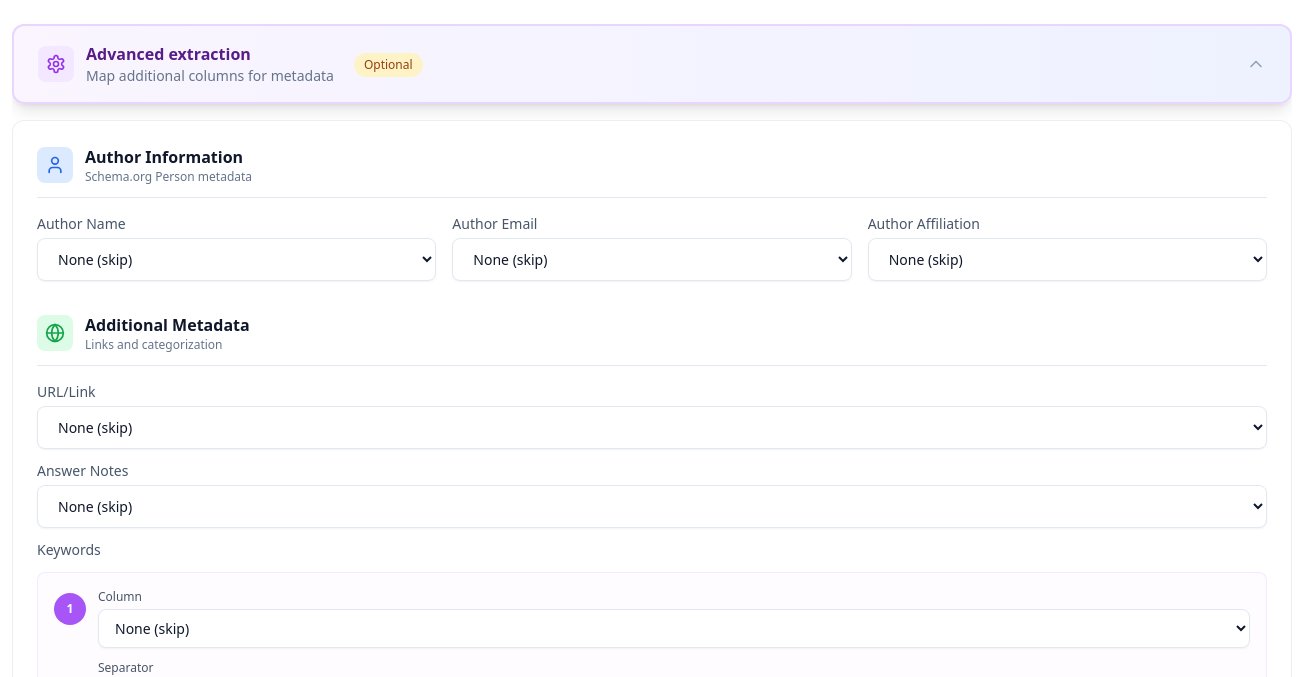
Test case: AdvancedExtractionPanel › shows truncated URLs in preview
Note: Select URL column
Select "URL" in the dropdown labelled "URL/Link". click: coordinates (652, 428)
box: [37,406,1267,449]
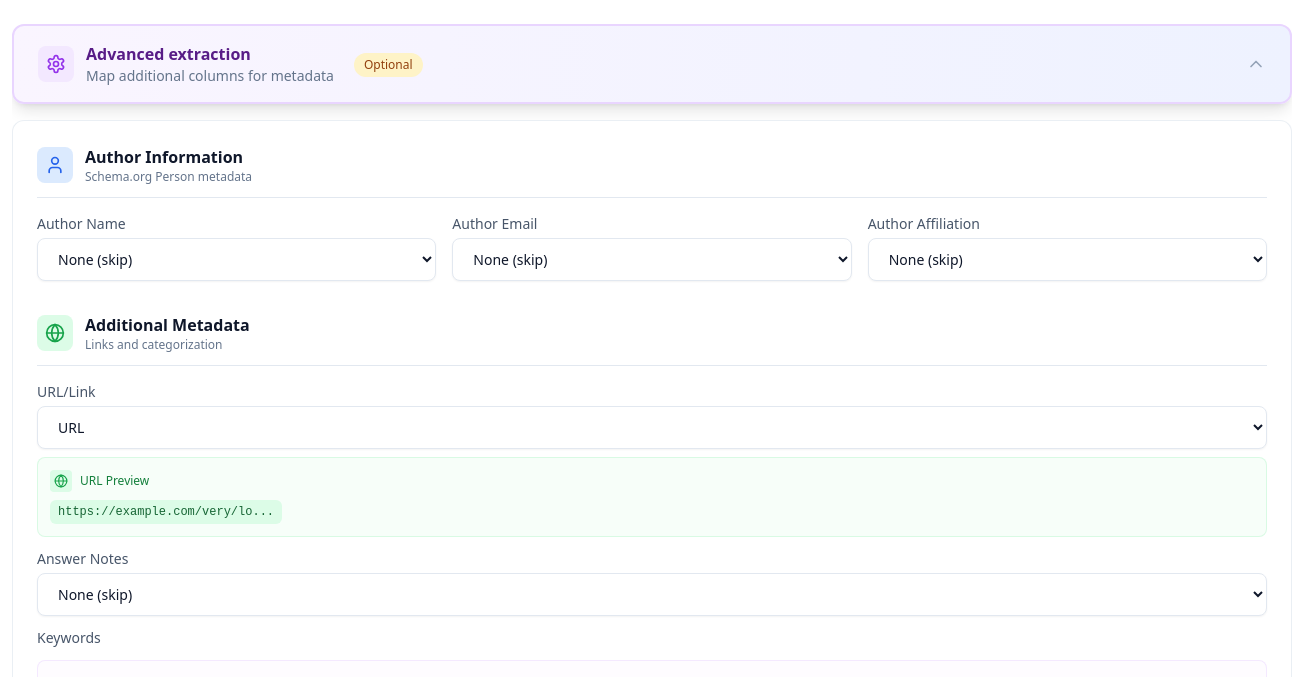
Expected: the text "https://example.com/very/lo..." is shown, [50,500,282,524]
